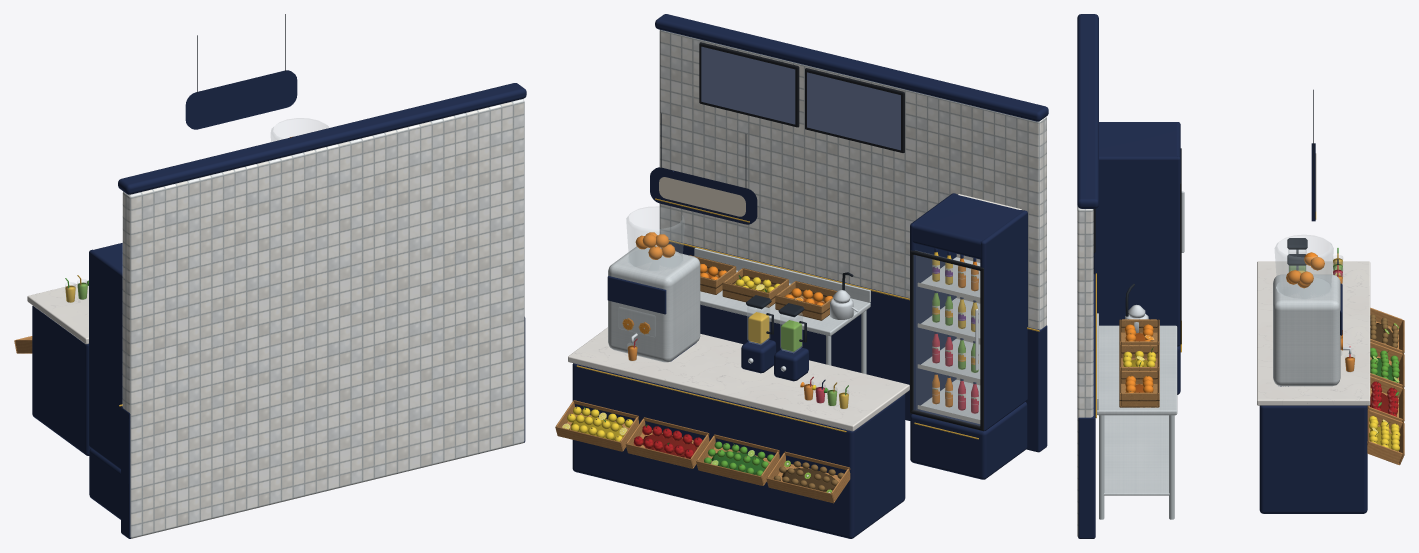
The model's file is sector-sucos_T2.fbx.
3 views of the same model, side by side, from view 1: azimuth 30°, elevation 25°; view 2: azimuth 150°, elevation 25°; view 3: azimuth 270°, elevation 25° (orthographic). The views are drawn at different scales.
Visible parts, largest first — view 1: Body; view 2: Body; view 3: Body.
Boxes of the visible parts, left/top/right/bottom form: Body: left=14, top=14, right=526, bottom=538; Body: left=555, top=14, right=1048, bottom=538; Body: left=1077, top=14, right=1404, bottom=538.
Bounding box in the file's own units: 3.29 × 2.89 × 2.42.
